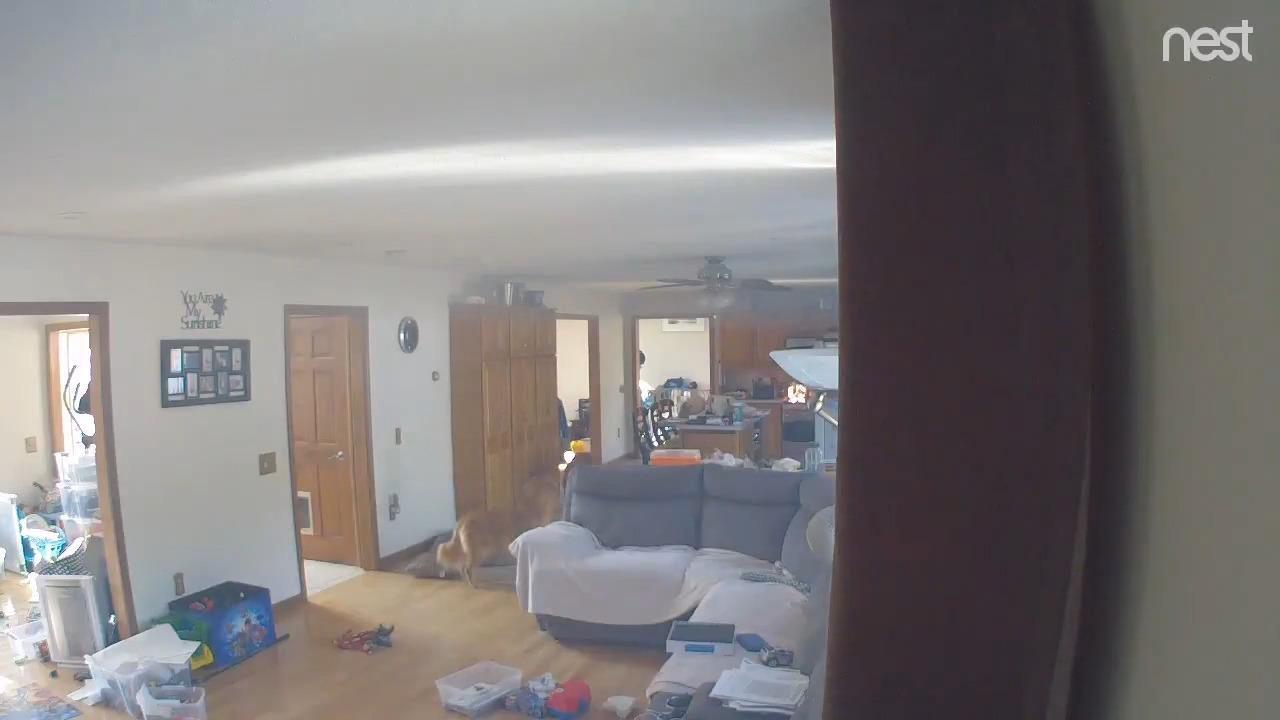fire: (787, 381, 806, 403)
